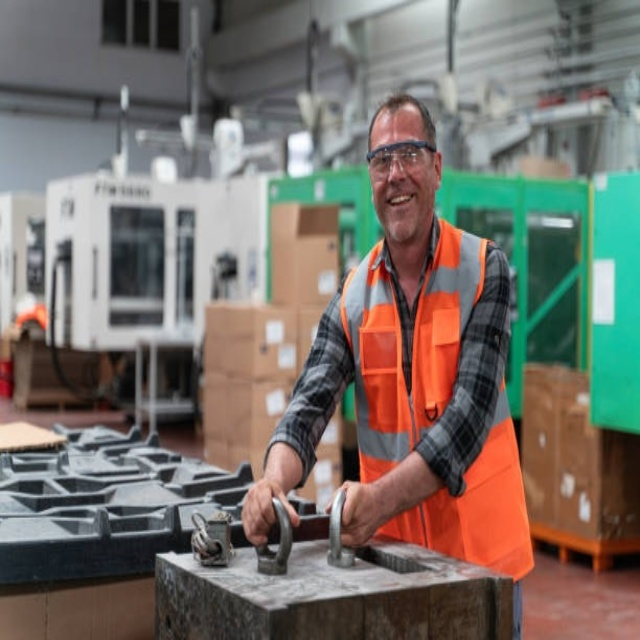Gafas: (369, 144, 436, 175)
Sin_guantes: (241, 476, 301, 548), (321, 472, 377, 548)
Sin_mascara: (383, 187, 419, 221)
